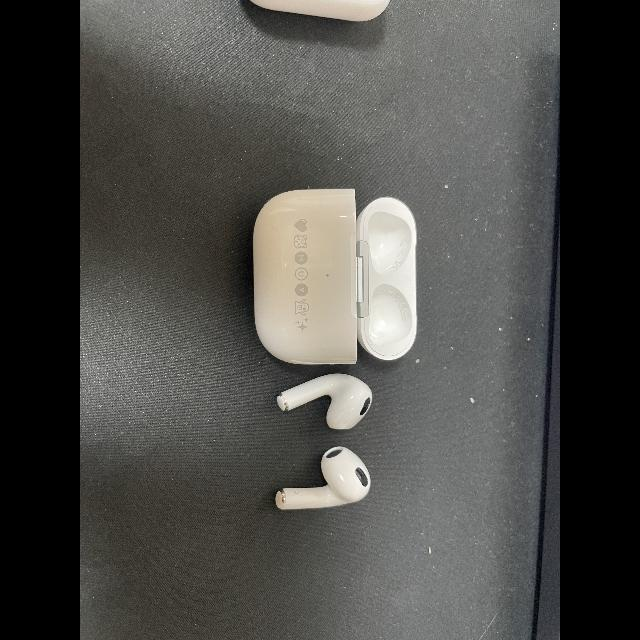airpod3: (244, 178, 423, 522)
